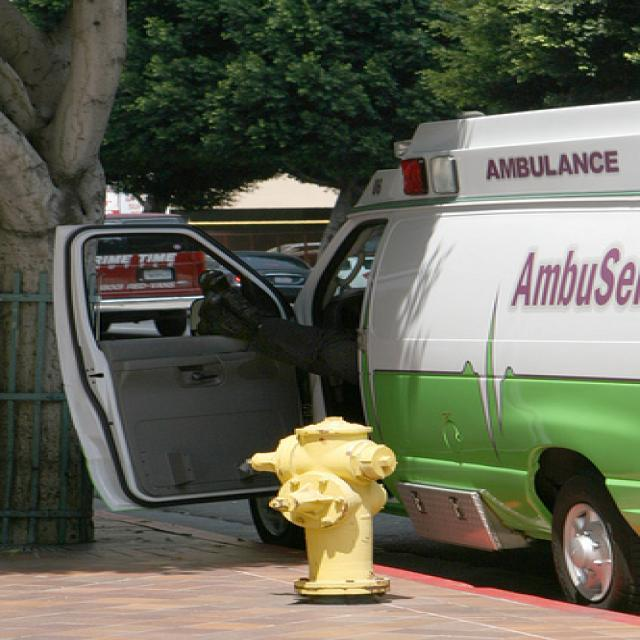fire_hydrant: (252, 418, 394, 600)
